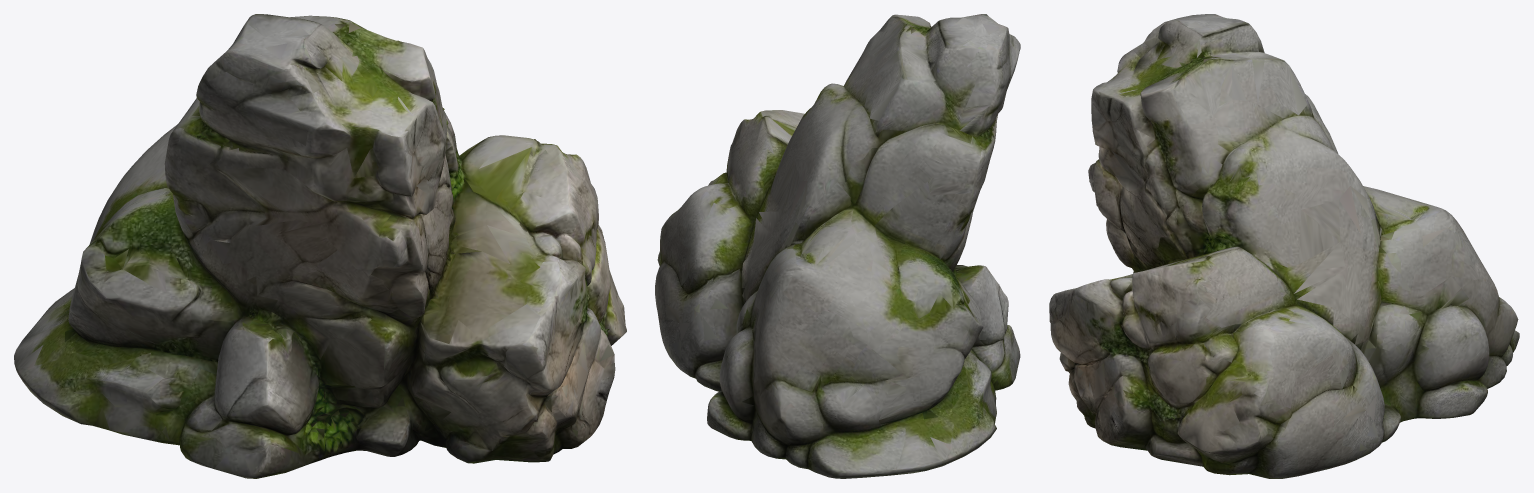
Rendered from fab_prop_6.glb.
3 views of the same model, side by side, from view 1: azimuth 30°, elevation 25°; view 2: azimuth 150°, elevation 25°; view 3: azimuth 270°, elevation 25° (orthographic). The views are drawn at different scales.
Parts seen in each view (by area): view 1: mesh_6; view 2: mesh_6; view 3: mesh_6.
Part boxes in pixels (left/top/right/bottom): mesh_6: left=14, top=14, right=626, bottom=478; mesh_6: left=655, top=14, right=1020, bottom=478; mesh_6: left=1049, top=14, right=1519, bottom=478.
Size of the model in its own units: 0.8211 by 0.6839 by 0.8713.
1 material, 1 textured.
